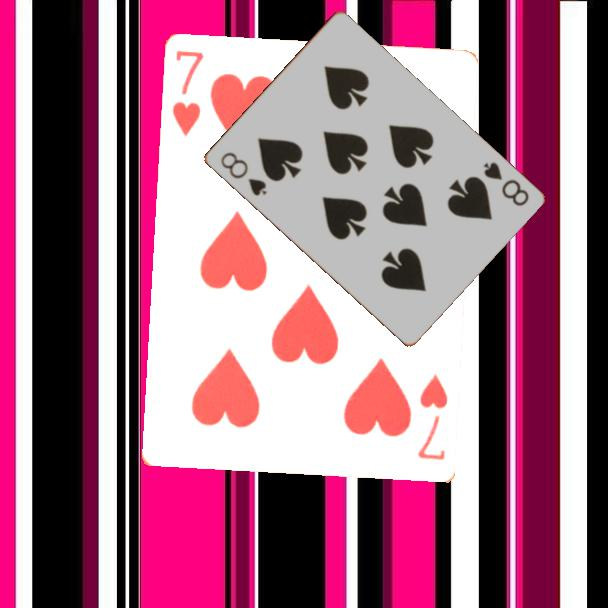h07: (169, 47, 207, 140), (414, 371, 451, 464)
s08: (216, 148, 269, 199), (479, 158, 532, 209)
